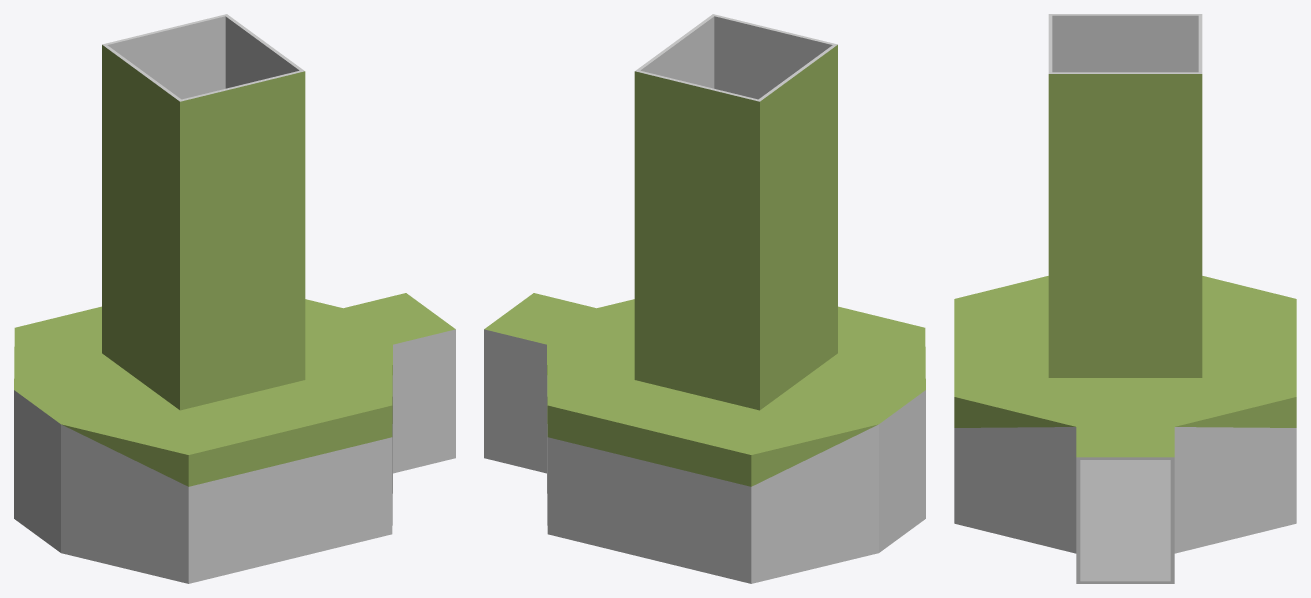
File: house_4.fbx
The picture shows the model from 3 angles, left to right: view 1: azimuth 30°, elevation 25°; view 2: azimuth 150°, elevation 25°; view 3: azimuth 270°, elevation 25°; orthographic projection.
Parts seen in each view (by area): view 1: house_4; view 2: house_4; view 3: house_4.
Part boxes in pixels (x1,y1,x2,y2): house_4: (14,14,455,583); house_4: (484,14,925,583); house_4: (954,14,1296,583).
Bounding box in the file's own units: 1157 × 1230 × 886.
